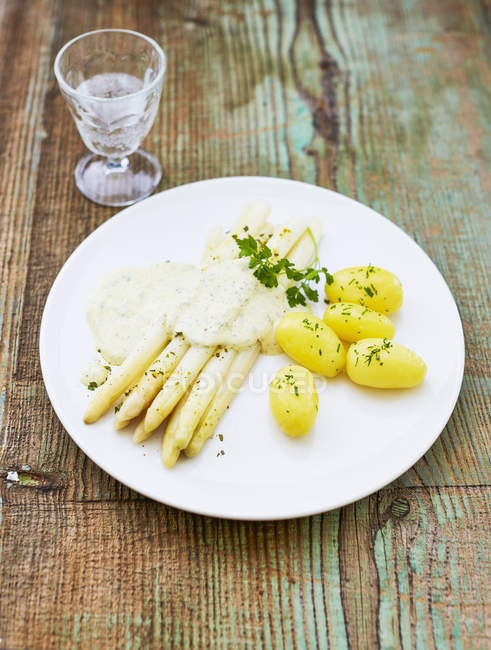boiled potatoes: (309, 277, 408, 383)
